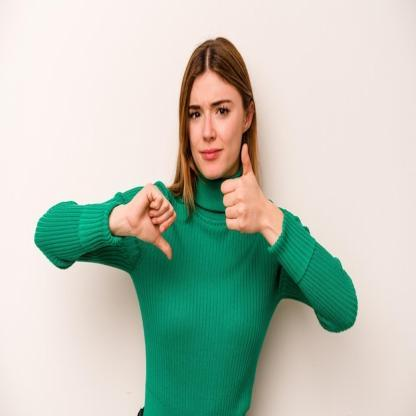thumb_down: (126, 179, 176, 263)
thumb_up: (219, 140, 264, 235)
